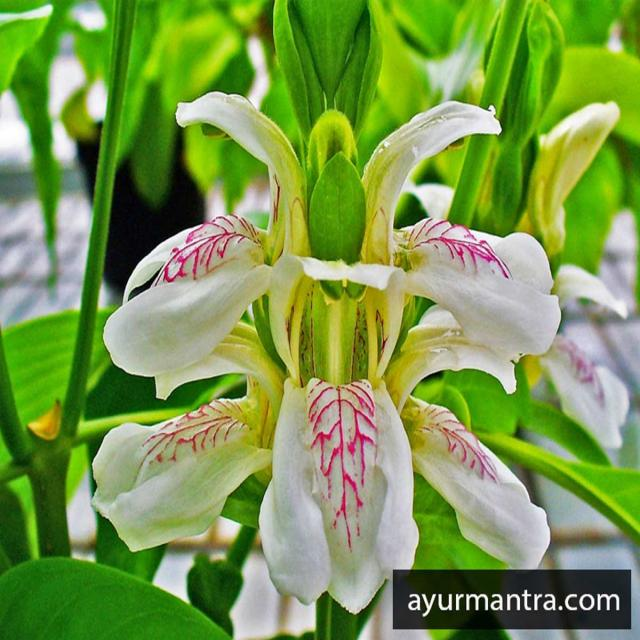Malabar Nut: (132, 106, 534, 585)
